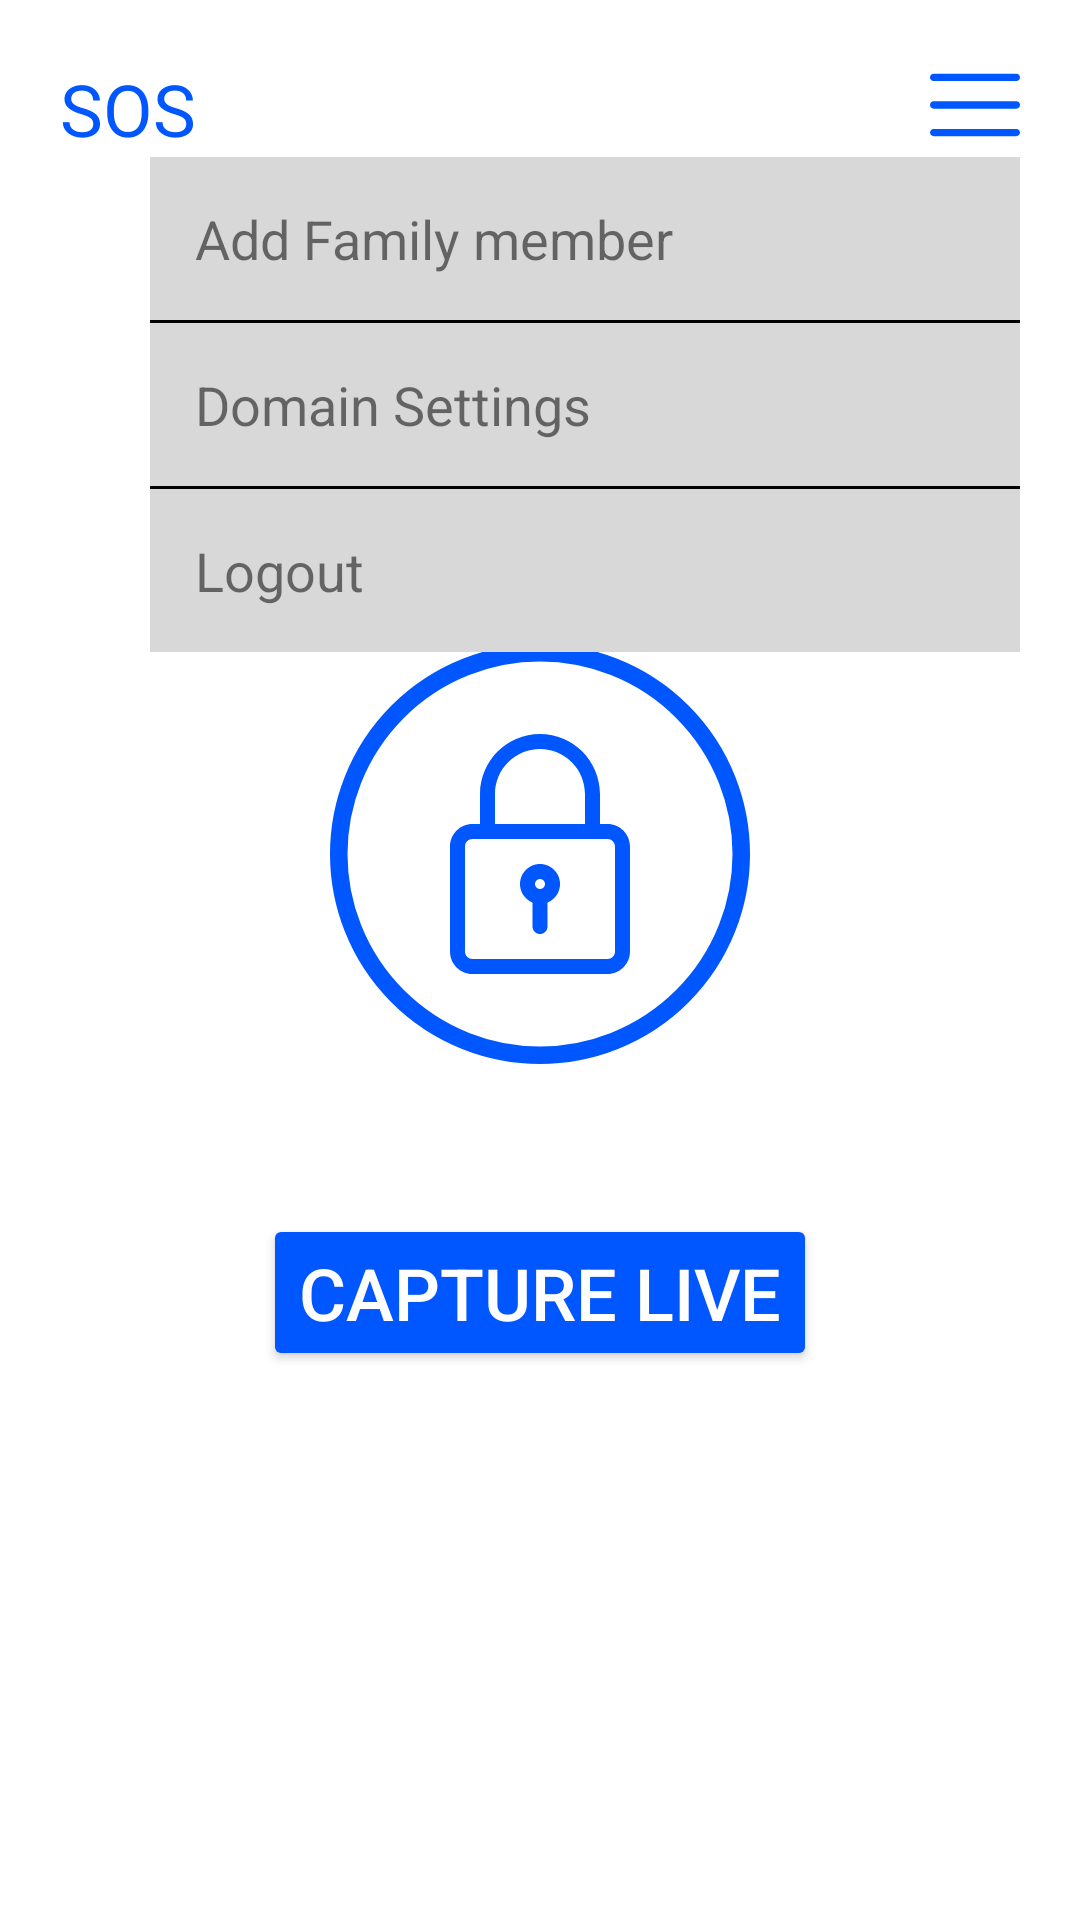

Icon click points for this 1080 x 1920 phone screenshot, format (x=x, y=y):
menu: (x=975, y=105)
